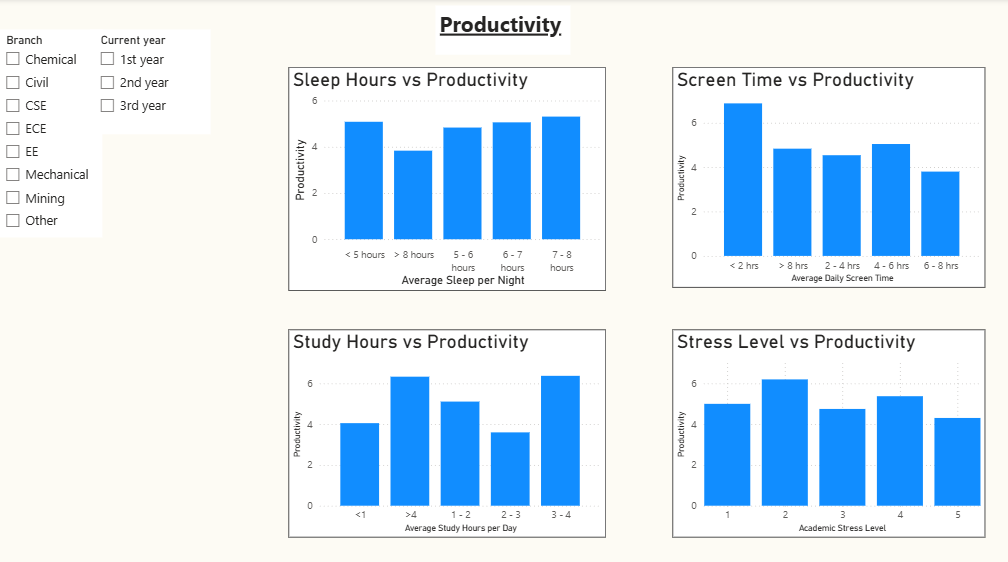

The page's visual inventory and layout, read from the dashboard file:
{"tool":"powerbi","page":{"name":"PRODUCTIVITY ANALYSIS","canvas":[1280,720],"ordinal":1},"visuals":[{"type":"clusteredColumnChart","title":"Sleep Hours vs Productivity","fields":{"Category":["Form_Responses.Q8. Average sleep per night"],"Y":["Avg(Form_Responses.Q18. How productive do you consider yourself)"]},"box":[368,86,400,282],"z":0},{"type":"clusteredColumnChart","title":"Screen Time vs Productivity","fields":{"Category":["Form_Responses.Q9. Average daily screen time (excluding studies)"],"Y":["Avg(Form_Responses.Q18. How productive do you consider yourself)"]},"box":[852,86,394,278],"z":1000},{"type":"clusteredColumnChart","title":"Study Hours vs Productivity","fields":{"Category":["Form_Responses.Q6. Average study hours per day"],"Y":["Avg(Form_Responses.Q18. How productive do you consider yourself)"]},"box":[368,418,400,262],"z":2000},{"type":"clusteredColumnChart","title":"Stress Level vs Productivity","fields":{"Category":["Form_Responses.Q14. Rate your academic stress"],"Y":["Avg(Form_Responses.Q18. How productive do you consider yourself)"]},"box":[852,418,394,262],"z":3000},{"type":"slicer","fields":{"Values":["Form_Responses.Q2. Branch"]},"box":[0,40,134,262],"z":4000},{"type":"slicer","fields":{"Values":["Form_Responses.Q3. Current year"]},"box":[119.1,39.7,151.2,132.3],"z":5000},{"type":"textbox","box":[554,10,170,62],"z":6000}]}

Visuals, with their boxes in screenshot pixels (x1, y1, x2, y2), scaled from the page's 1280x720 canvas onto the 1008x562 screenshot:
"Sleep Hours vs Productivity" clusteredColumnChart: <box>290,67,605,287</box>
"Screen Time vs Productivity" clusteredColumnChart: <box>671,67,981,284</box>
"Study Hours vs Productivity" clusteredColumnChart: <box>290,326,605,531</box>
"Stress Level vs Productivity" clusteredColumnChart: <box>671,326,981,531</box>
slicer - Form_Responses.Q2. Branch: <box>0,31,106,236</box>
slicer - Form_Responses.Q3. Current year: <box>94,31,213,134</box>
textbox: <box>436,8,570,56</box>
